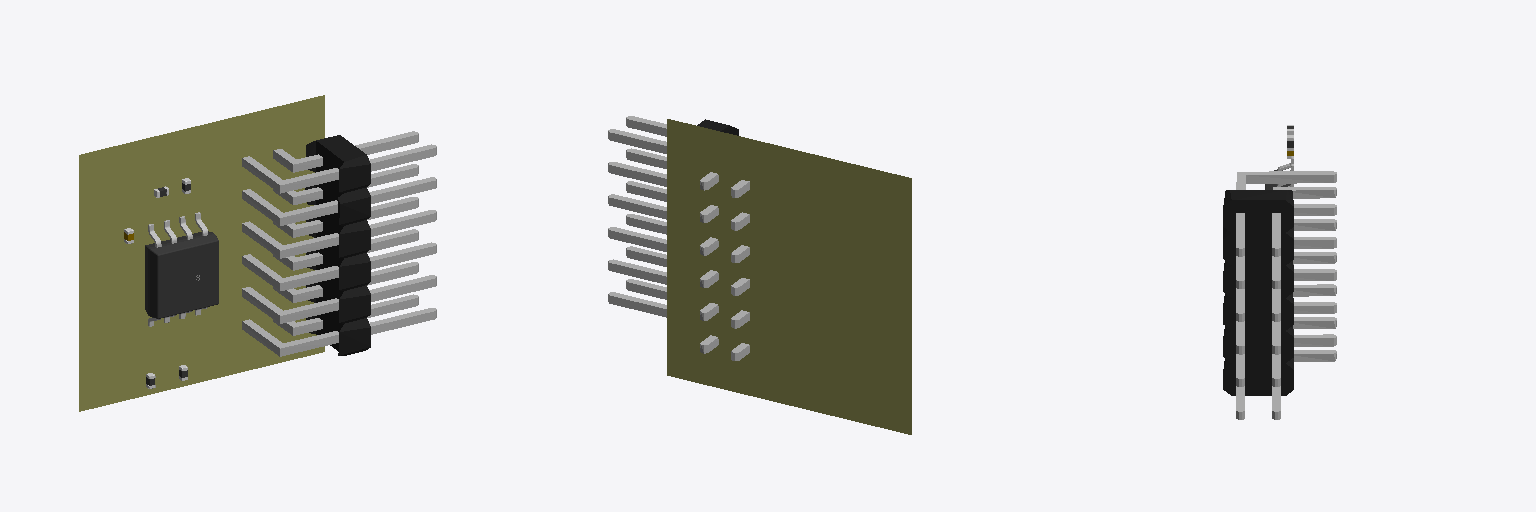
File: OBJ_PCB_PMOD-SPI-NOR-FLASH.obj
3 renders of one model, left to right at view 1: azimuth 30°, elevation 25°; view 2: azimuth 150°, elevation 25°; view 3: azimuth 270°, elevation 25°, orthographic.
Size of the model in its own units: 103 by 78.8 by 31.5.